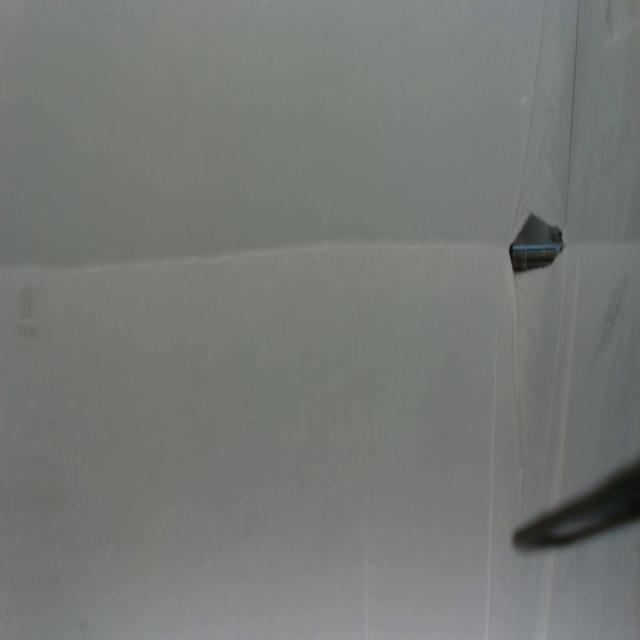hole: (507, 210, 566, 277)
